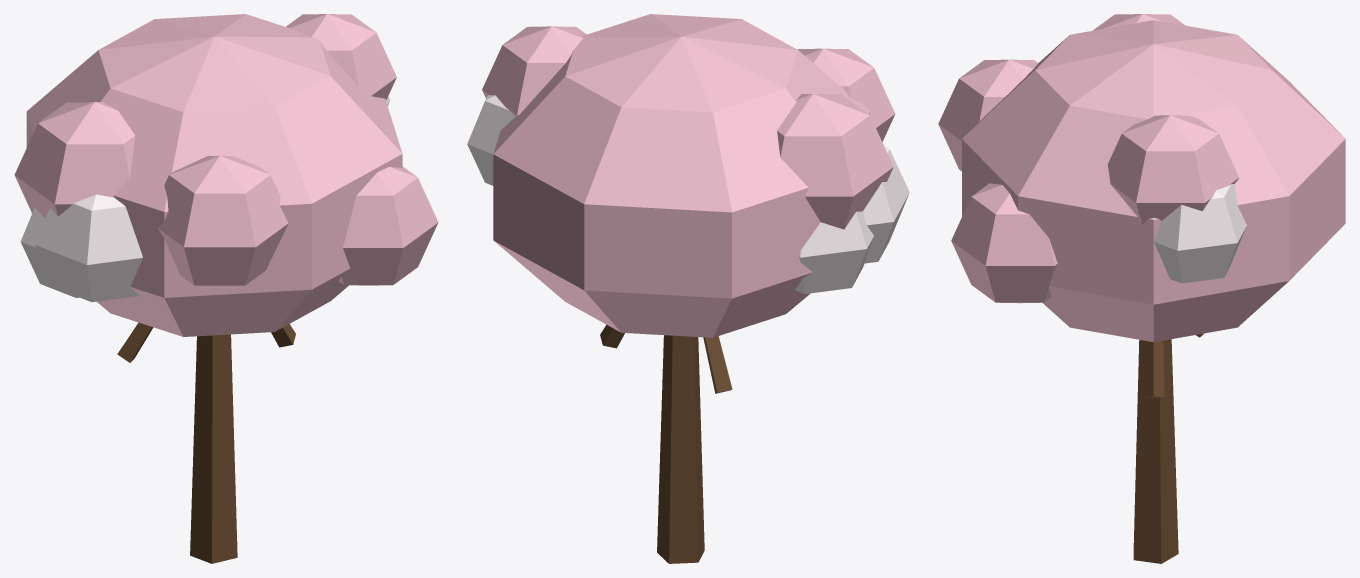
File: fruit_tree_bloom.glb
3 renders of one model, left to right at view 1: azimuth 30°, elevation 25°; view 2: azimuth 150°, elevation 25°; view 3: azimuth 270°, elevation 25°, orthographic.
Parts seen in each view (by area): view 1: fruit_tree_bloom; view 2: fruit_tree_bloom; view 3: fruit_tree_bloom.
Part boxes in pixels (left/top/right/bottom): fruit_tree_bloom: left=14, top=14, right=438, bottom=563; fruit_tree_bloom: left=467, top=14, right=909, bottom=563; fruit_tree_bloom: left=938, top=14, right=1345, bottom=563.
Bounding box in the file's own units: 2.82 × 3.62 × 2.62.
